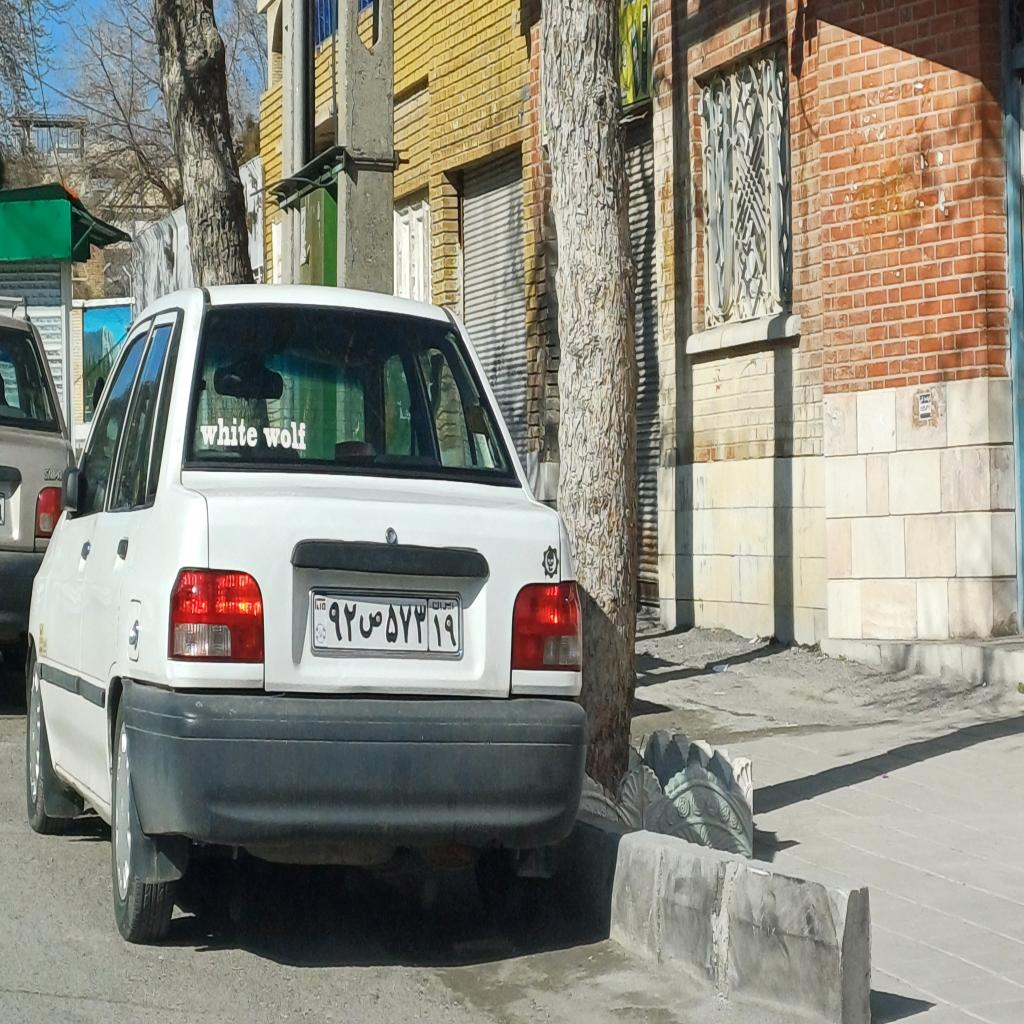Plates: (310, 589, 461, 654)
